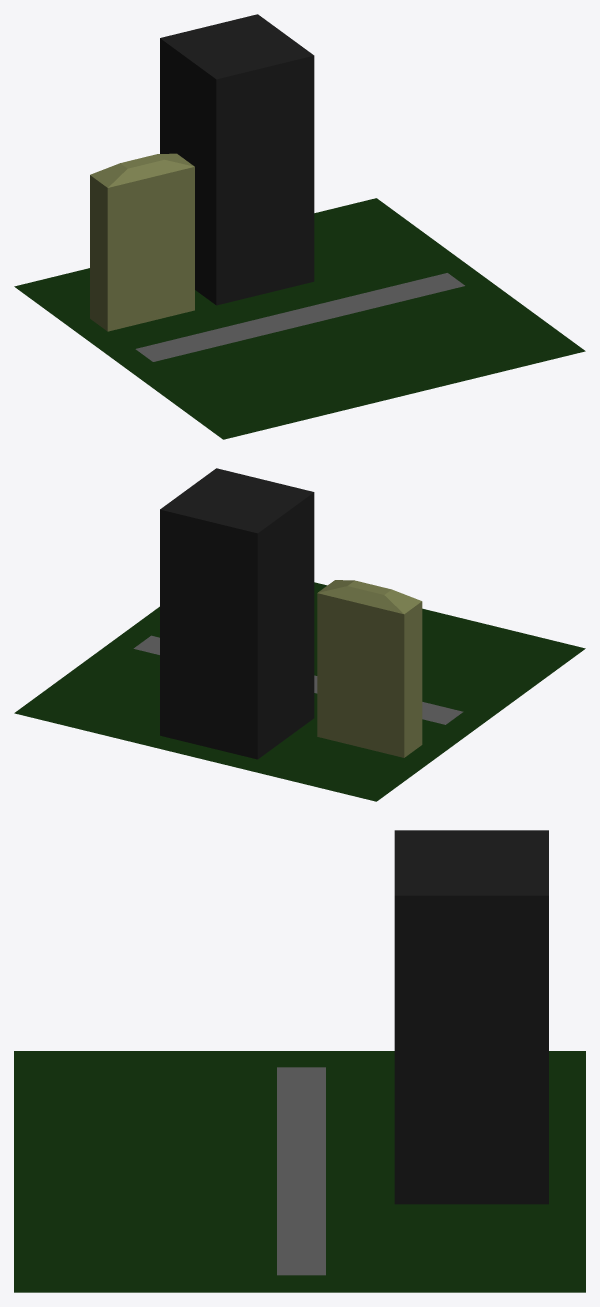
The model's file is smallCity.obj.
3 renders of one model, top to bottom at view 1: azimuth 30°, elevation 25°; view 2: azimuth 150°, elevation 25°; view 3: azimuth 270°, elevation 25°, orthographic. The views are drawn at different scales.
Visible parts, largest first — view 1: Plane, Plane.002, Plane.003, Plane.001; view 2: Plane.002, Plane, Plane.003, Plane.001; view 3: Plane, Plane.002, Plane.001.
Part boxes in pixels (bbox=[...]): Plane: bbox=[14, 198, 585, 439]; Plane.002: bbox=[160, 14, 314, 305]; Plane.003: bbox=[90, 153, 194, 331]; Plane.001: bbox=[135, 273, 464, 361]; Plane.002: bbox=[160, 468, 314, 759]; Plane: bbox=[14, 582, 585, 801]; Plane.003: bbox=[317, 580, 422, 757]; Plane.001: bbox=[133, 635, 463, 724]; Plane: bbox=[14, 1051, 585, 1292]; Plane.002: bbox=[394, 830, 548, 1204]; Plane.001: bbox=[277, 1067, 325, 1275].
Size of the model in its own units: 23.32 by 13.89 by 23.32.
